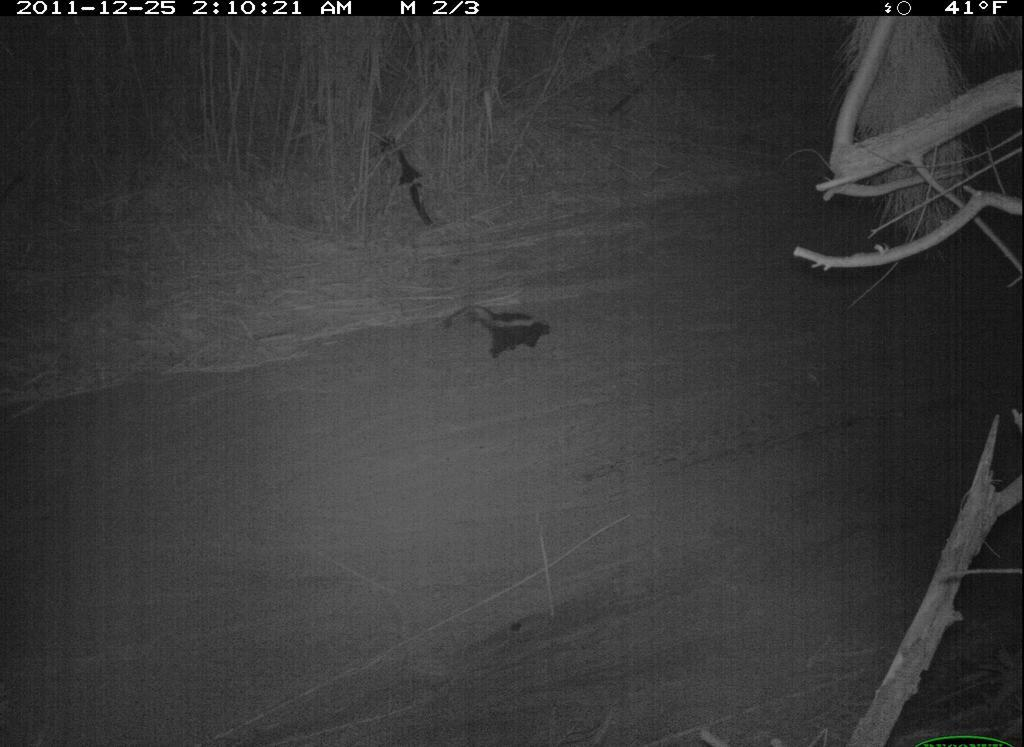skunk: (437, 300, 561, 364)
